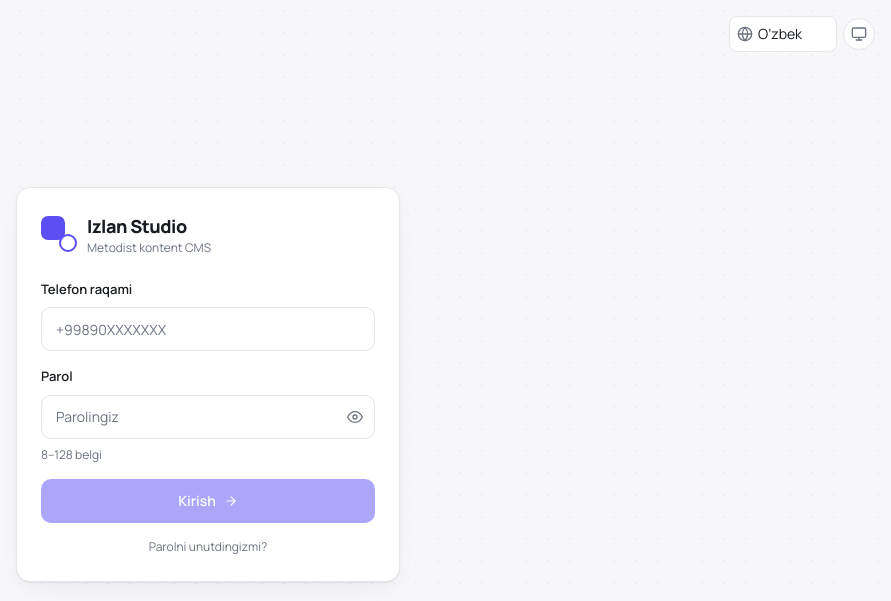
Scenario: Staff login — phone + password (TD-252) › WEB-AUTH-PWD-03 password show/hide toggle is accessible
Click the button named "Parolni ko‘rsatish": (355, 416) [335,394,375,438]
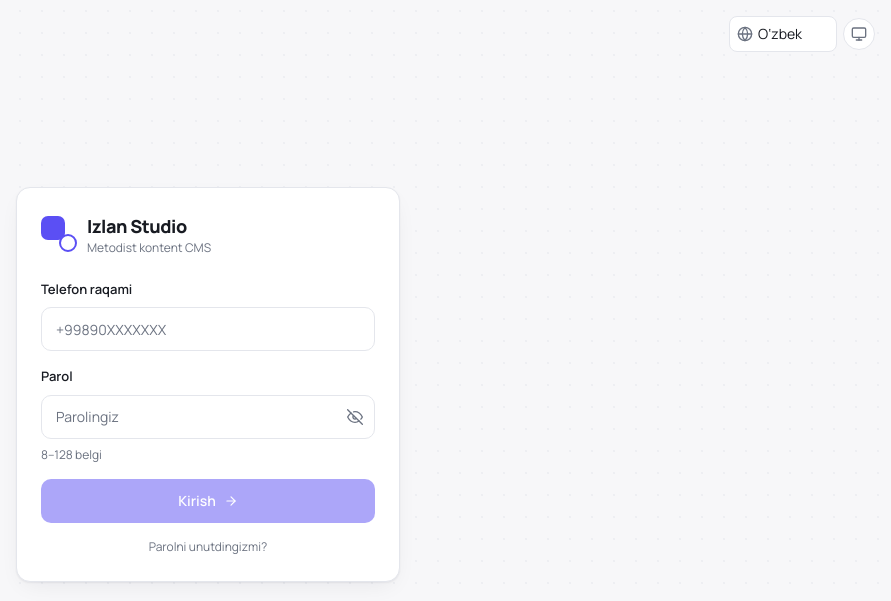
Check: the button named "Parolni yashirish" is shown, box [335,394,375,438]
